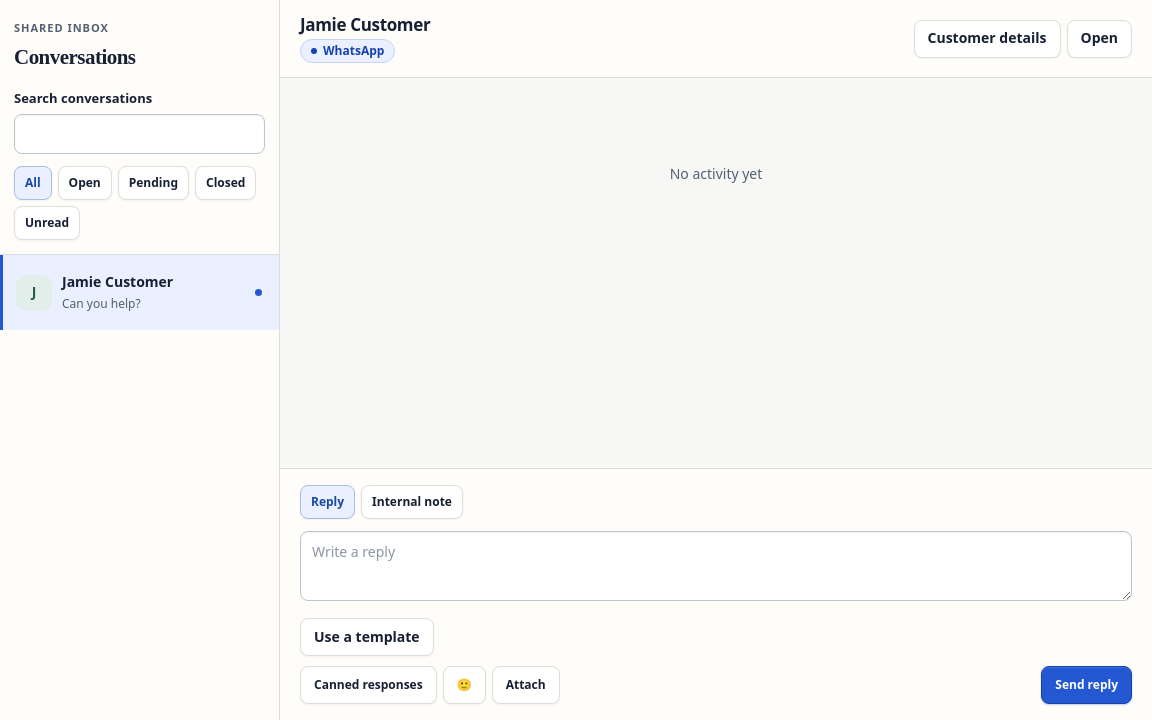
Scenario: conversation actions › sends an internal note and labels it as private
This screenshot has width=1152, height=720.
Expected: the text "Jamie Customer" is shown, top-left (62, 272), bottom-right (173, 291)
Click the button "Internal note". click: (412, 502)
box: top-left (361, 485), bottom-right (463, 519)
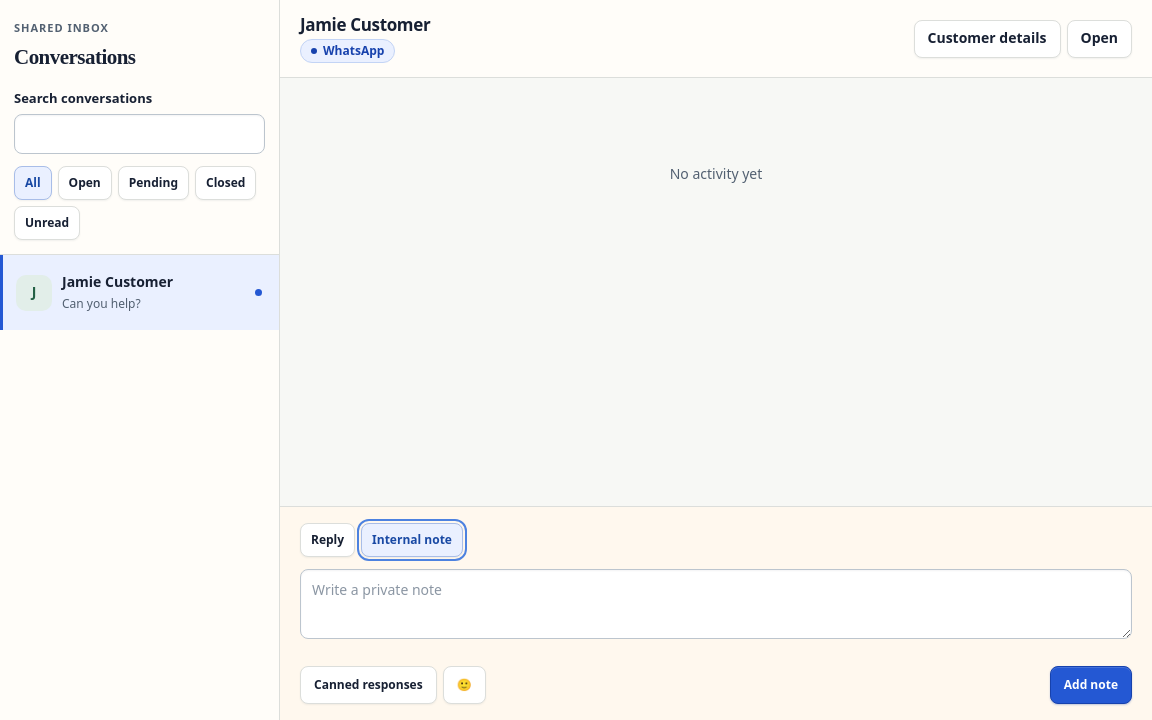
Type "Follow up" into the text box named "Message". click: (716, 604)
box: top-left (300, 569), bottom-right (1132, 639)
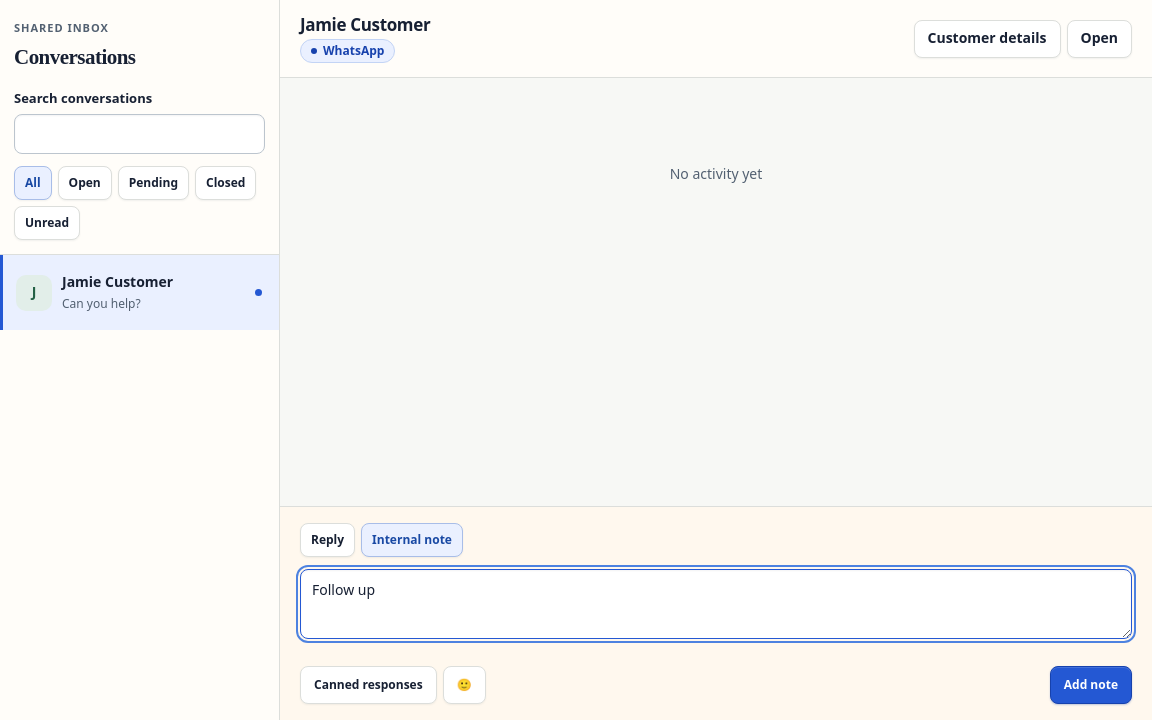
Click the button "Add note". click: (1091, 685)
box: top-left (1050, 666), bottom-right (1132, 704)
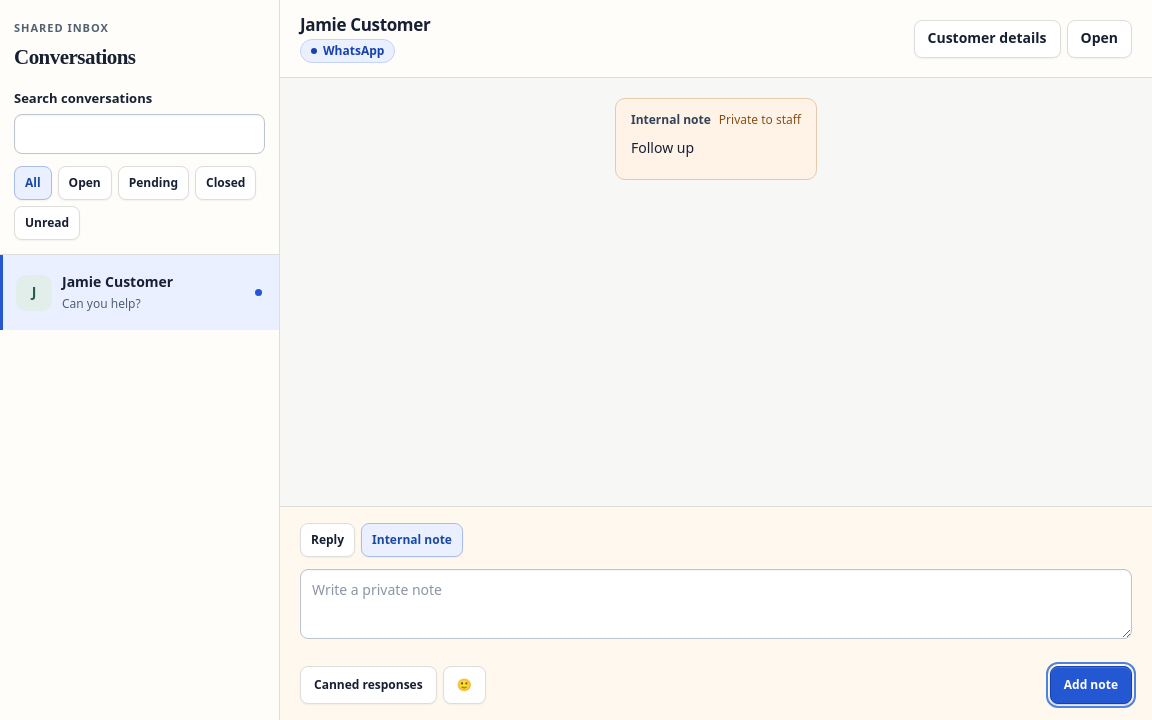
Now the text "Private to staff" is shown, box top-left (719, 111), bottom-right (801, 129)
